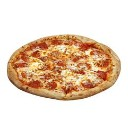pepperonipizza: (9, 35, 121, 101)
